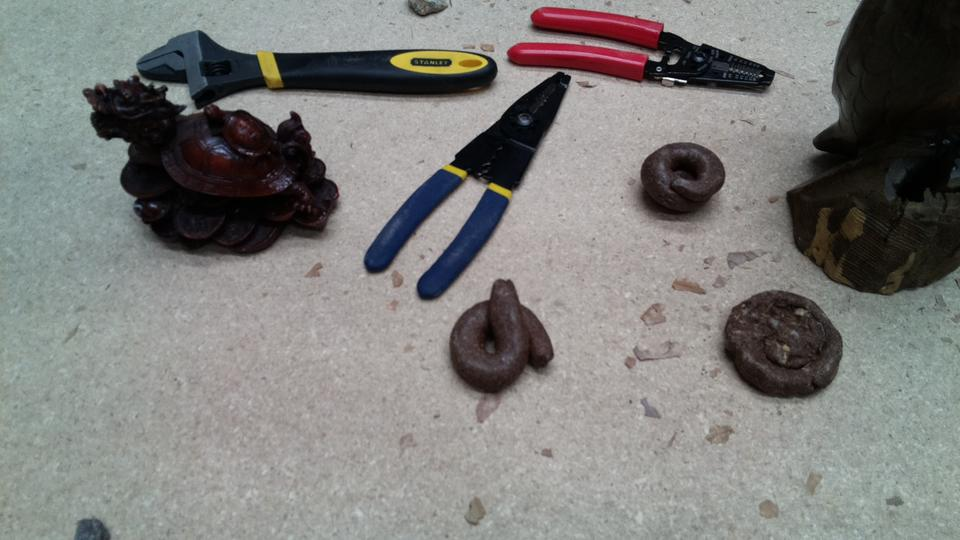poop: (718, 286, 850, 403), (445, 275, 559, 397), (637, 137, 730, 219)
